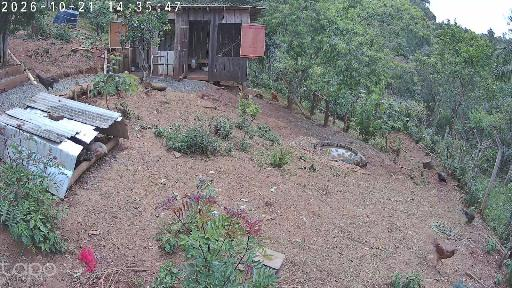frango: (463, 210, 481, 226), (94, 139, 108, 158), (78, 149, 100, 161)
galinha: (433, 238, 458, 270), (35, 72, 60, 94), (436, 171, 447, 184), (389, 146, 400, 155), (448, 171, 454, 177)
galo: (271, 90, 279, 102)
pato: (202, 66, 208, 72)
